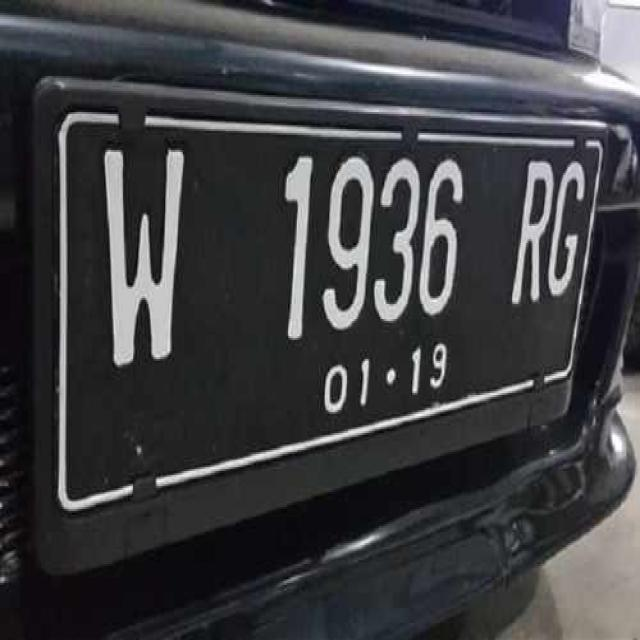plate: (42, 106, 596, 412)
